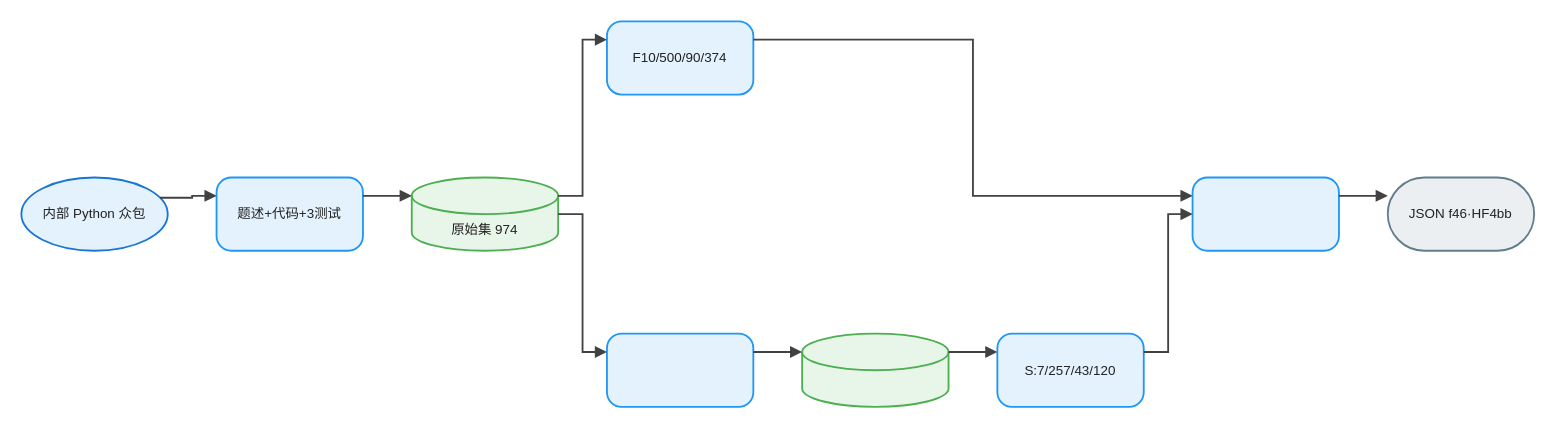
This 1557x429 diagram has some shape labels left out. The shapes that lost their labels are listed below. From the top down, each one's box as (x1, y1, x2, y2) in pixels, then its label:
(1191, 176, 1339, 251): Py3.6测试通过
(605, 332, 754, 407): 编辑·裁剪·核验
(801, 332, 949, 407): 论文426·发布427
